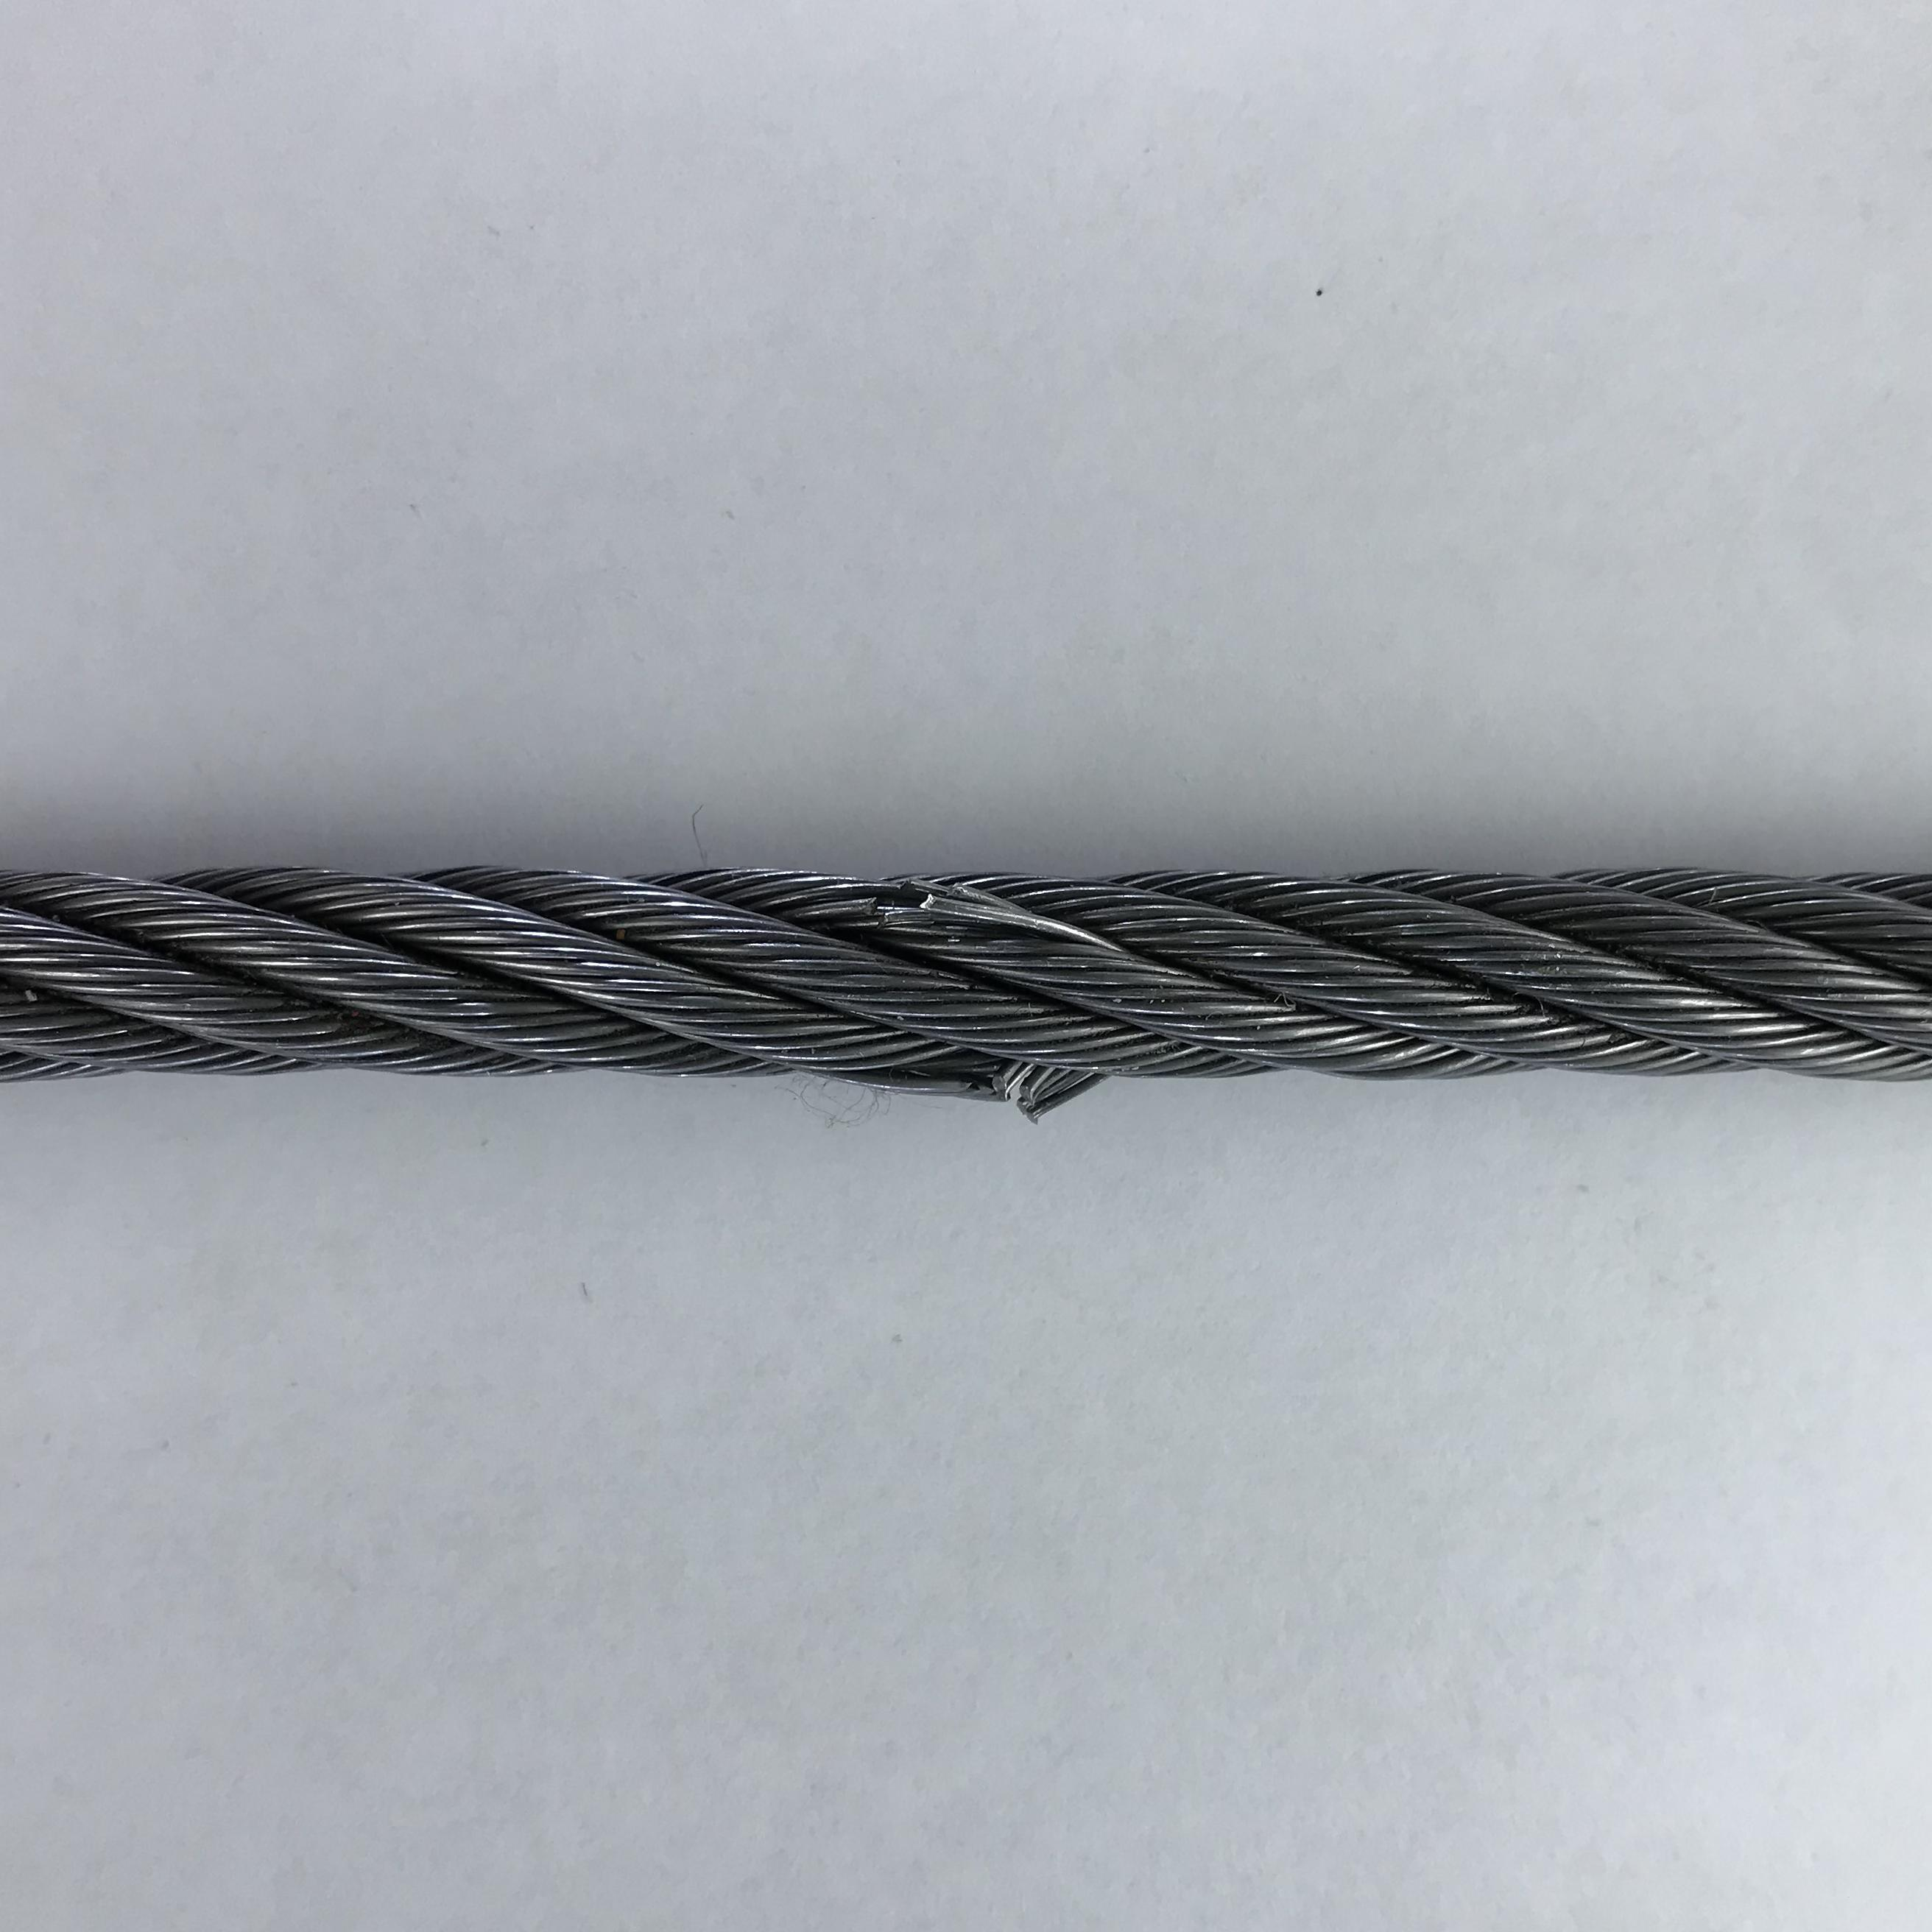break: (978, 1044, 1104, 1129), (849, 879, 954, 931)
